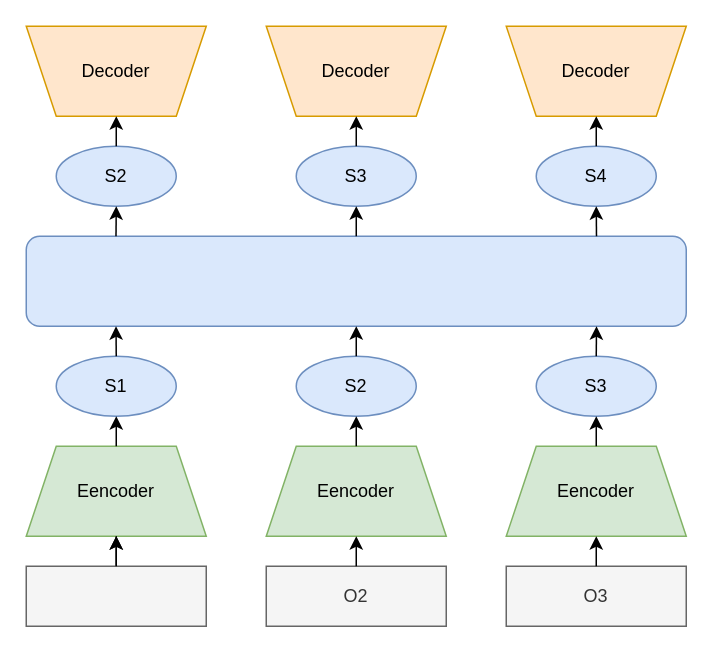
Image size: 713x653. Some labels were removed from this diagram. The box of each missing label's shape, as (x1, y1, x2, y2) in pixels:
O1: (25, 565, 206, 626)
Time Causal Model: (25, 235, 686, 326)
